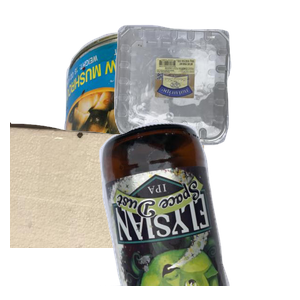glass: (97, 120, 300, 300)
metal: (60, 28, 300, 208)
plastic: (112, 22, 300, 160)
trash: (10, 120, 207, 300)
